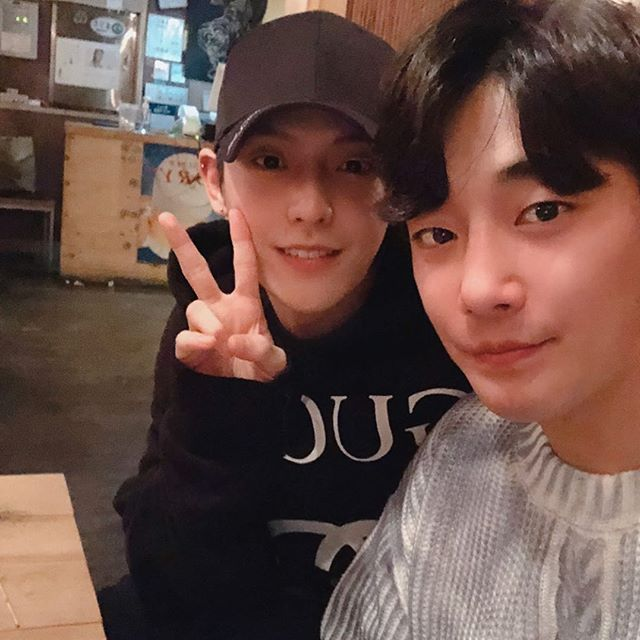people: (385, 1, 640, 640), (185, 13, 434, 640)
